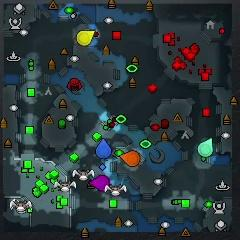p1: (95, 138, 110, 158)
p2: (198, 138, 214, 158)
p3: (90, 174, 109, 192)
p4: (76, 30, 95, 46)
p5: (120, 150, 141, 167)
